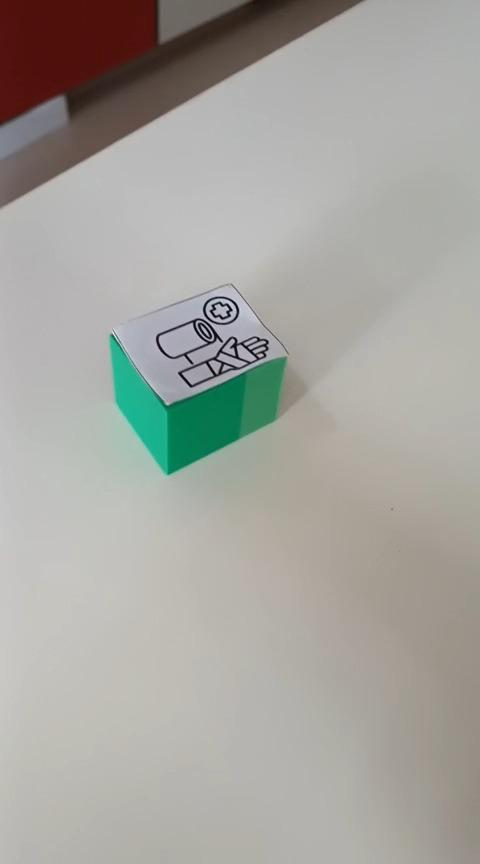Bandages: (108, 281, 289, 475)
